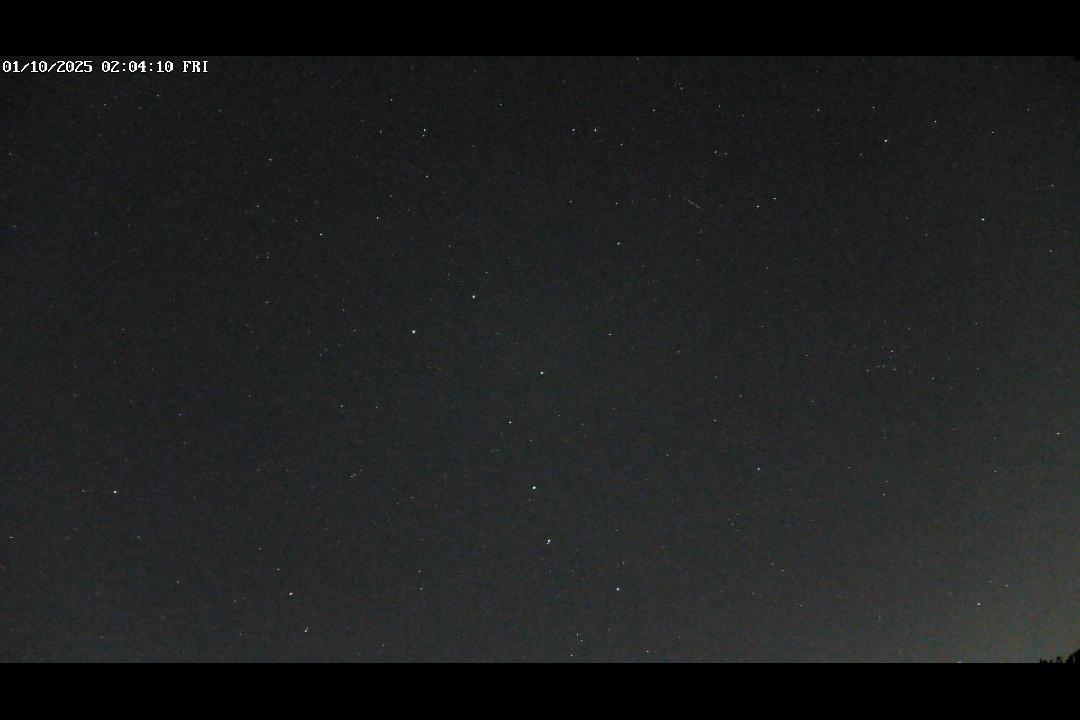meteorite: (685, 197, 708, 212)
